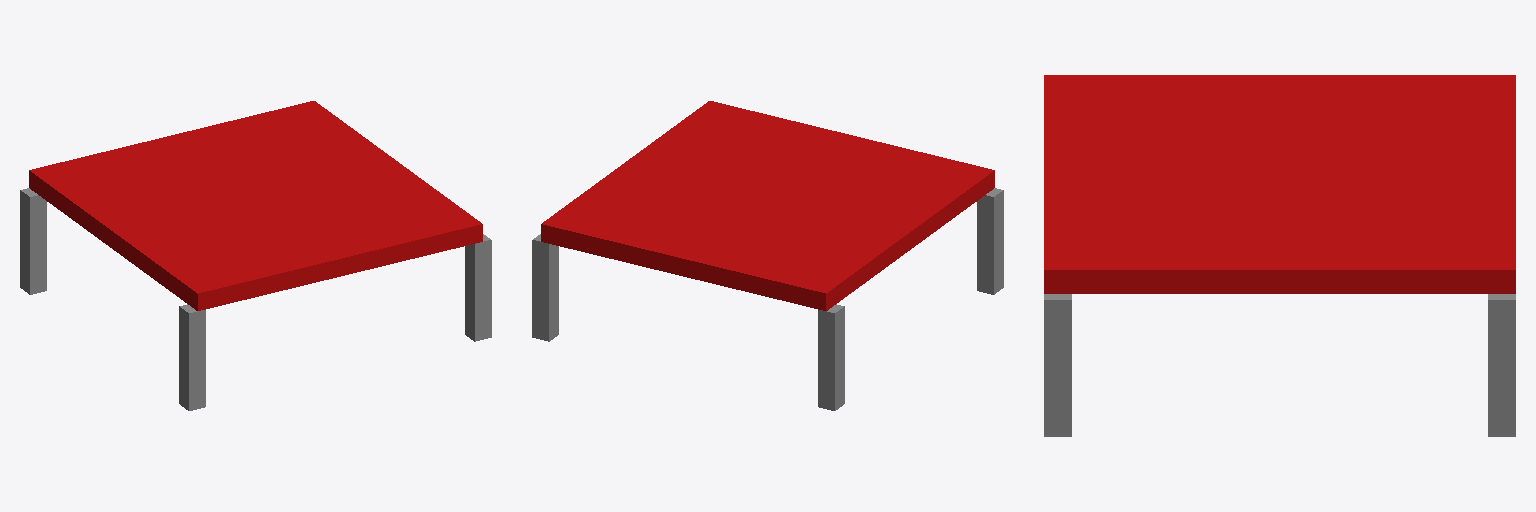
URDF robot description (robocon_2027_low_frame_stage4):
<?xml version="1.0"?>
<!-- Curriculum robustness stage 4: inner HxWxL = 0.2755 x 0.76 x 0.84 m. -->
<robot name="robocon_2027_low_frame_stage4">
  <link name="low_frame">
    <collision name="roof"><origin xyz="0.42 0 0"/><geometry><box size="0.84 0.86 0.05"/></geometry></collision>
    <collision name="entry_post_pos_y"><origin xyz="0 0.405 -0.16275"/><geometry><box size="0.05 0.05 0.2755"/></geometry></collision>
    <collision name="entry_post_neg_y"><origin xyz="0 -0.405 -0.16275"/><geometry><box size="0.05 0.05 0.2755"/></geometry></collision>
    <collision name="exit_post_pos_y"><origin xyz="0.84 0.405 -0.16275"/><geometry><box size="0.05 0.05 0.2755"/></geometry></collision>
    <collision name="exit_post_neg_y"><origin xyz="0.84 -0.405 -0.16275"/><geometry><box size="0.05 0.05 0.2755"/></geometry></collision>
    <visual name="roof_vis"><origin xyz="0.42 0 0"/><geometry><box size="0.84 0.86 0.05"/></geometry><material name="red"><color rgba="0.8 0.1 0.1 1"/></material></visual>
    <visual name="entry_post_pos_y_vis"><origin xyz="0 0.405 -0.16275"/><geometry><box size="0.05 0.05 0.2755"/></geometry><material name="grey"><color rgba="0.6 0.6 0.6 1"/></material></visual>
    <visual name="entry_post_neg_y_vis"><origin xyz="0 -0.405 -0.16275"/><geometry><box size="0.05 0.05 0.2755"/></geometry><material name="grey"/></visual>
    <visual name="exit_post_pos_y_vis"><origin xyz="0.84 0.405 -0.16275"/><geometry><box size="0.05 0.05 0.2755"/></geometry><material name="grey"/></visual>
    <visual name="exit_post_neg_y_vis"><origin xyz="0.84 -0.405 -0.16275"/><geometry><box size="0.05 0.05 0.2755"/></geometry><material name="grey"/></visual>
  </link>
</robot>

--- Facts derived from the render (not from the file) ---
3 views of the same robot in one strip: view 1: azimuth 30°, elevation 25°; view 2: azimuth 150°, elevation 25°; view 3: azimuth 270°, elevation 25° (orthographic).
Robot: robocon_2027_low_frame_stage4 — 1 links, 0 joints (none); root link low_frame; default pose: all joints at 0.
Links seen in each view (by area): view 1: low_frame; view 2: low_frame; view 3: low_frame.
Link boxes in pixels (x1,y1,x2,y2): low_frame: [20, 101, 491, 410]; low_frame: [532, 101, 1003, 410]; low_frame: [1044, 75, 1515, 436].
Bounding box of the posed robot: 0.89 × 0.86 × 0.3255 m (x, y, z).
Geometry: primitives only (box / cylinder / sphere), no mesh files.
